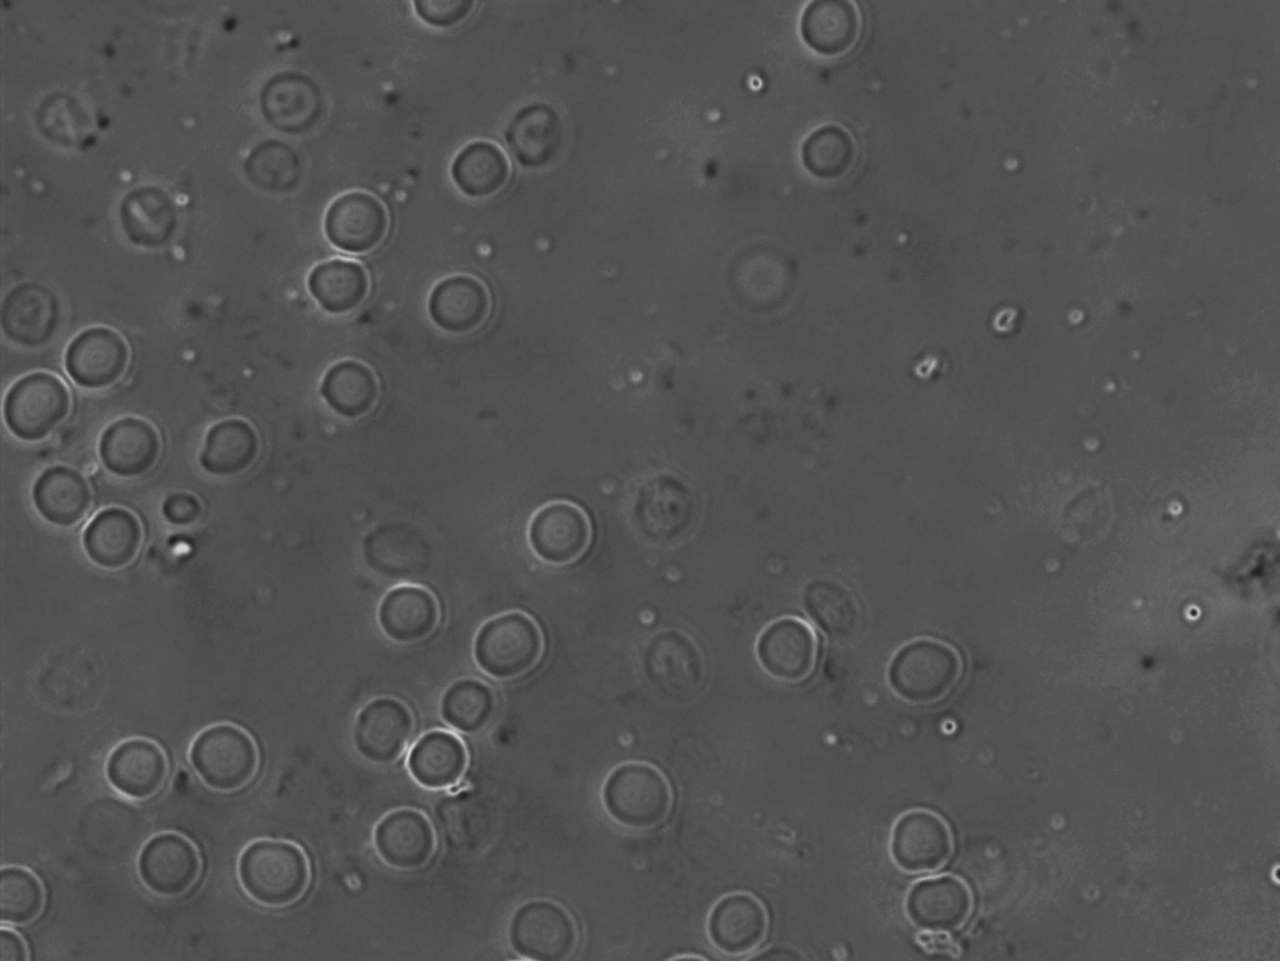depth:0: (745, 601, 837, 697), (400, 716, 489, 810), (879, 629, 978, 711), (878, 793, 972, 879), (597, 753, 686, 842), (180, 710, 265, 803), (456, 604, 551, 684), (515, 489, 605, 571), (127, 825, 217, 907), (227, 827, 317, 910), (51, 315, 142, 396), (90, 722, 175, 808), (342, 686, 428, 770), (362, 794, 450, 876), (899, 862, 987, 942), (697, 880, 783, 960), (496, 890, 593, 961), (313, 180, 398, 259), (88, 401, 173, 479), (74, 496, 149, 580), (312, 350, 396, 426), (418, 263, 498, 341), (190, 405, 271, 479), (368, 576, 447, 652), (442, 130, 520, 206), (298, 250, 376, 324), (19, 456, 97, 529), (435, 667, 516, 736), (791, 118, 866, 187)
